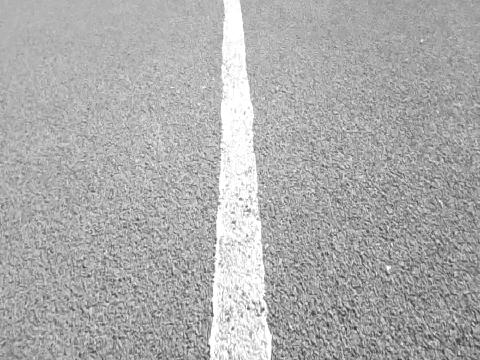Lines: (212, 0, 274, 360)
